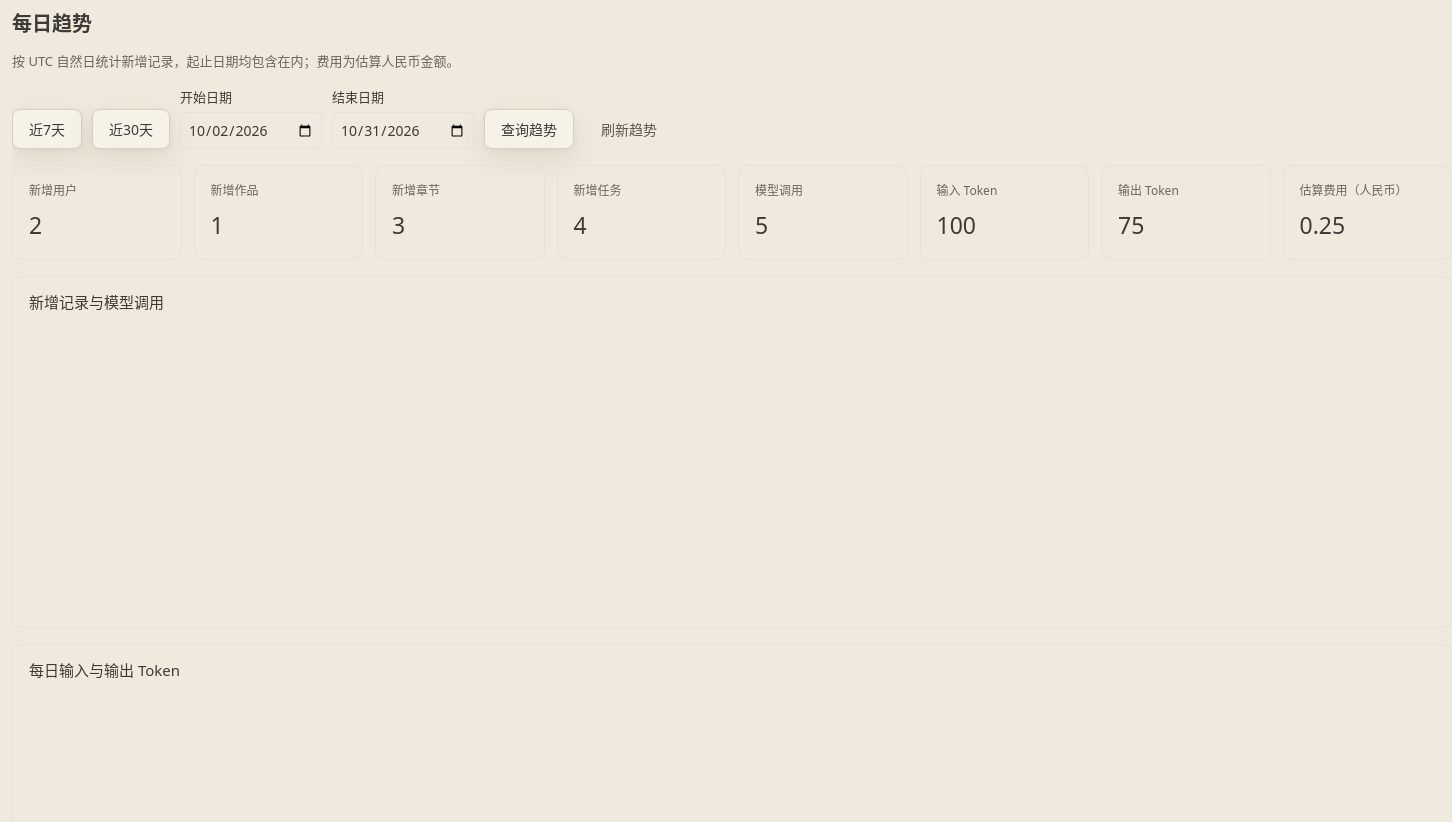
Test: renders real summary and separate cost and token charts
Expected: the text "100" is shown, [936,209,976,241]
Expected: the text "估算费用（人民币）" is shown, [1300,182,1408,199]
Type "2025-01-01" into the date field labelled "开始日期". click: x=251, y=130
box: [180,112,322,149]
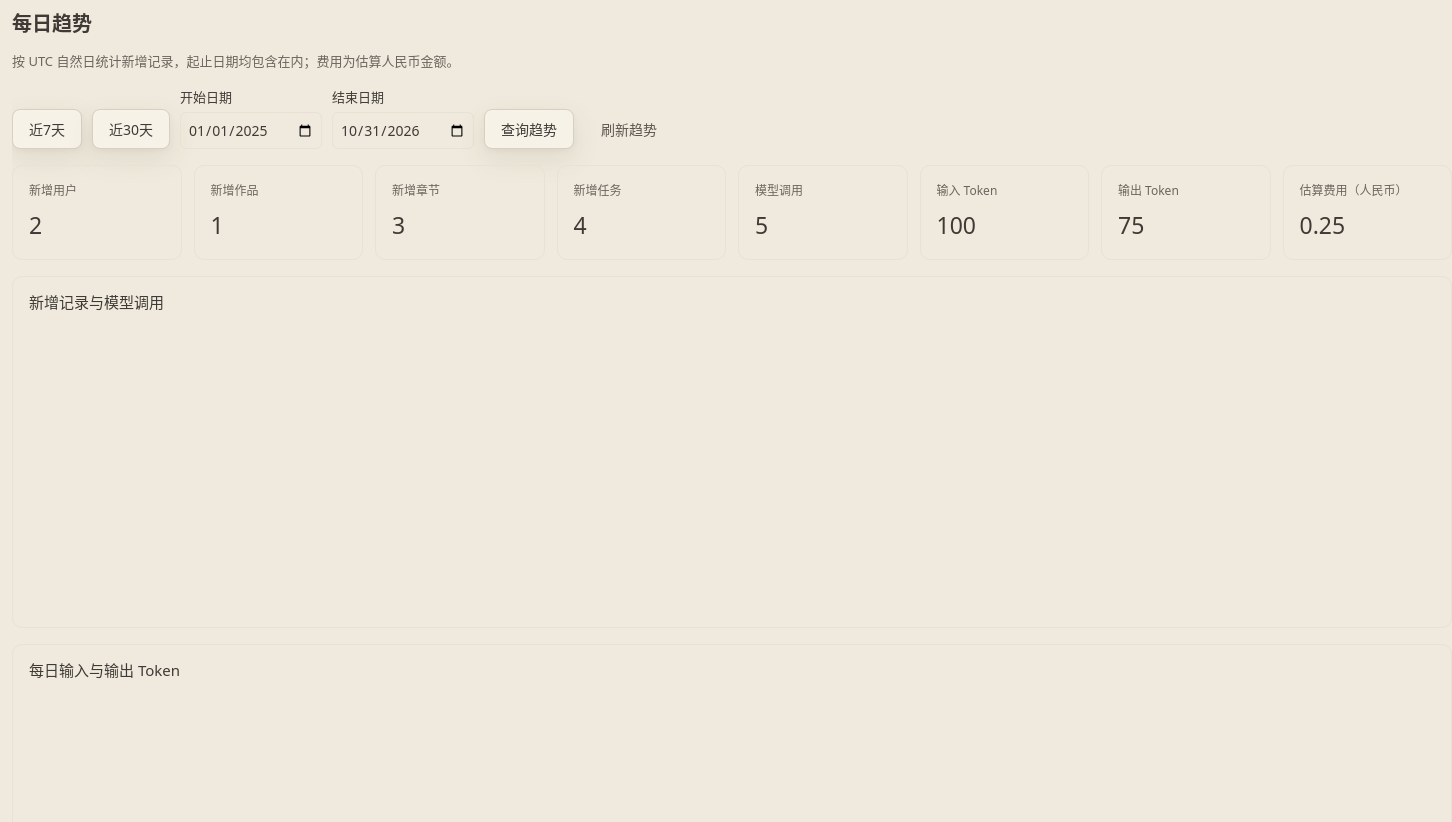
Click the button "查询趋势". click: x=529, y=129
box: [484,109,574,149]
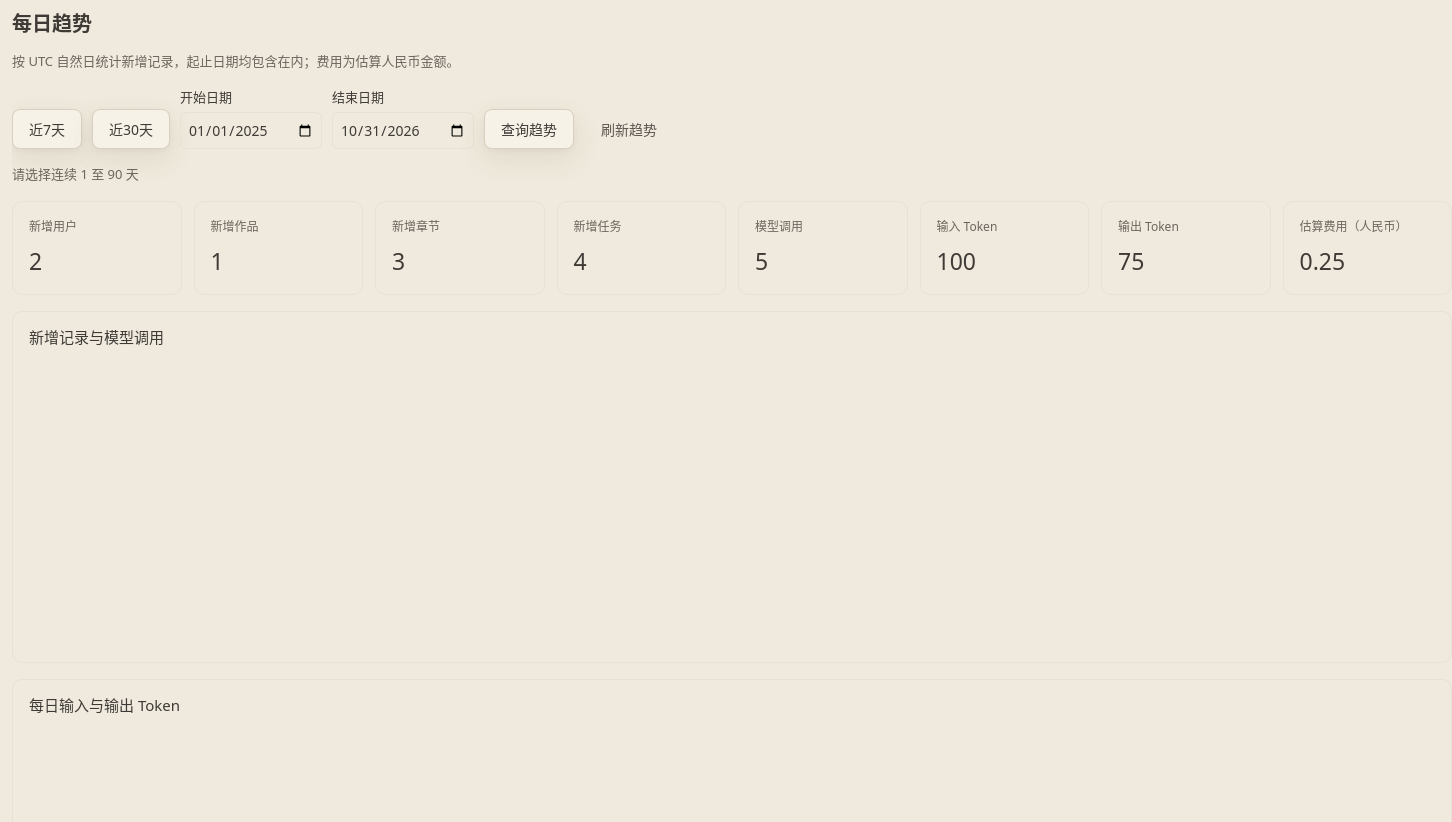
Expected: the message shows "90", [12,165,139,183]
